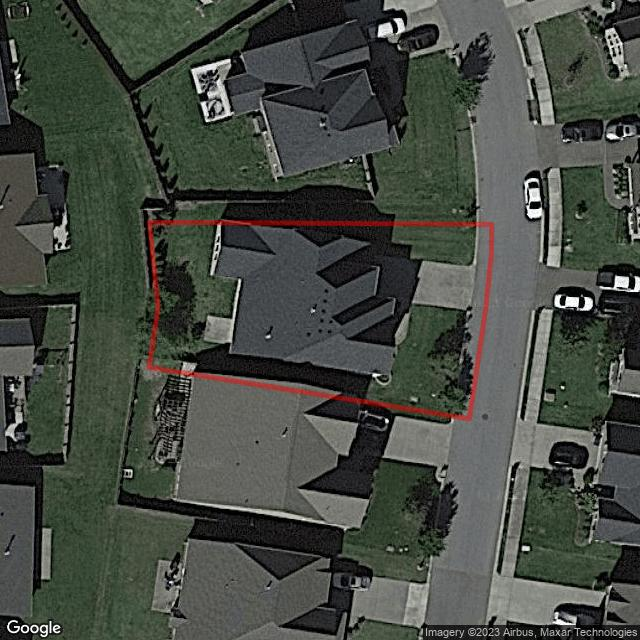Driveway: (379, 255, 474, 310)
House: (209, 225, 402, 377)
Other: (204, 315, 231, 343)
